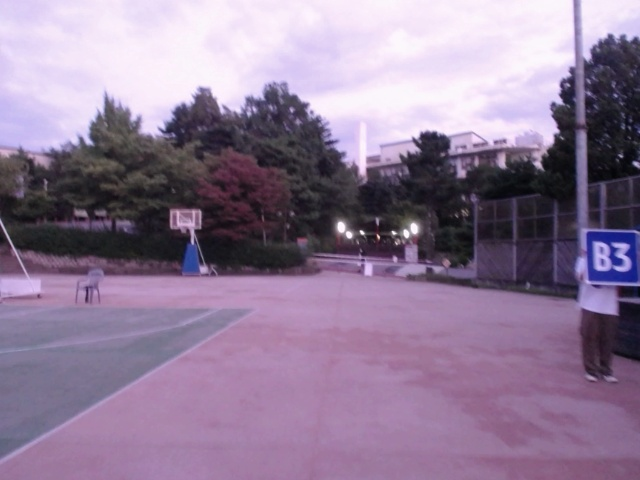delivery_b3: (584, 227, 639, 287)
